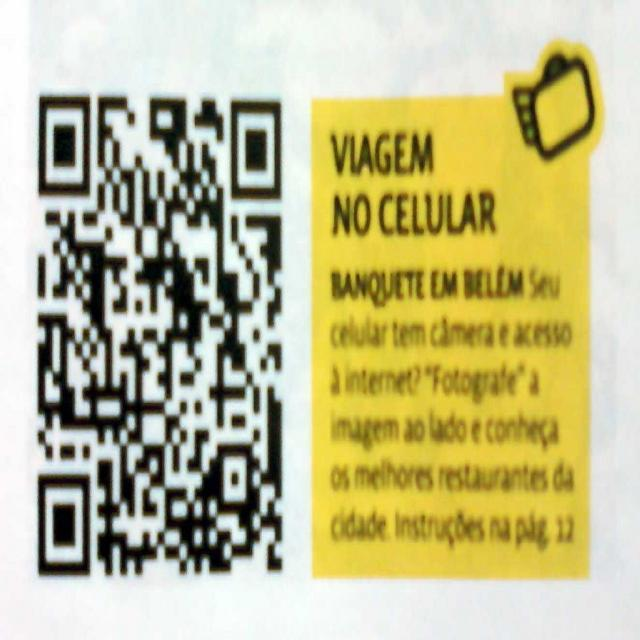qr-code: (38, 96, 283, 574)
